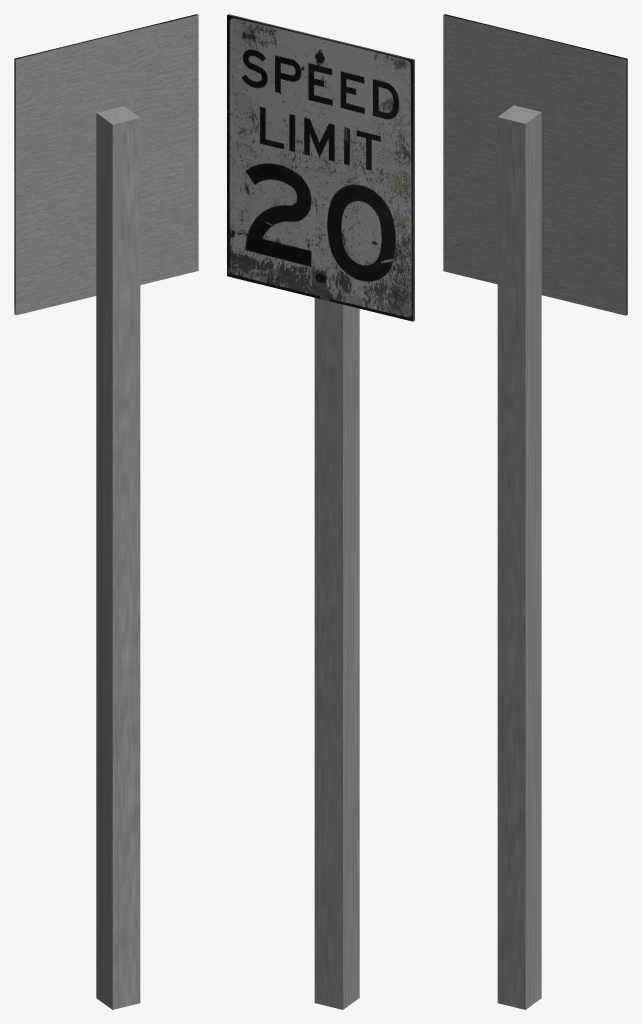
File: SpeedLimitSign.fbx
The picture shows the model from 3 angles, left to right: view 1: azimuth 30°, elevation 25°; view 2: azimuth 150°, elevation 25°; view 3: azimuth 330°, elevation 25°; orthographic projection. The views are drawn at different scales.
Visible parts, largest first — view 1: pCube9, pasted__pPlane2, pPlane2; view 2: pPlane2, pCube9, pasted__pPlane2; view 3: pCube9, pasted__pPlane2, pPlane2.
Part boxes in pixels (box(x1,y1,x2,y2)): pCube9: box(96, 106, 140, 1009); pasted__pPlane2: box(15, 15, 198, 315); pPlane2: box(14, 14, 197, 314); pPlane2: box(227, 15, 413, 321); pCube9: box(314, 298, 359, 1009); pasted__pPlane2: box(228, 14, 414, 320); pCube9: box(497, 105, 541, 1009); pasted__pPlane2: box(443, 15, 626, 315); pPlane2: box(444, 14, 627, 314).
Bounding box in the file's own units: 2.46 × 12.24 × 0.523.
